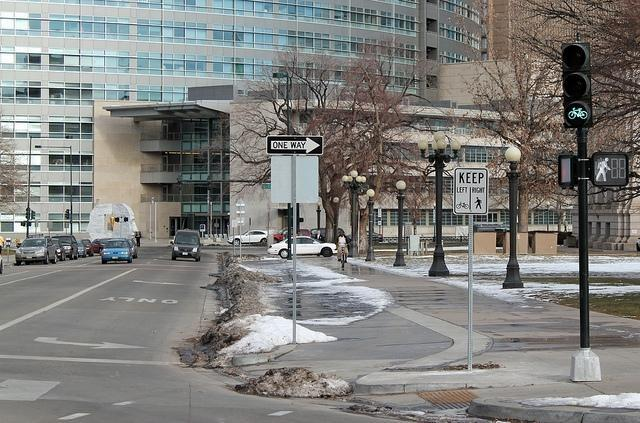bicycle: (338, 244, 348, 270)
car: (266, 237, 338, 258), (14, 238, 56, 266), (170, 229, 203, 262), (50, 234, 79, 261), (100, 240, 132, 264), (228, 229, 268, 246), (273, 229, 311, 243), (76, 238, 95, 258), (91, 238, 110, 256), (126, 238, 138, 258)
truck: (170, 230, 203, 262)
